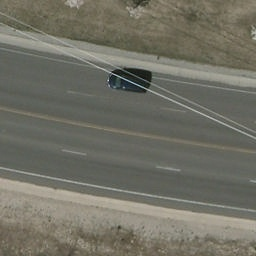car: (106, 76, 148, 93)
